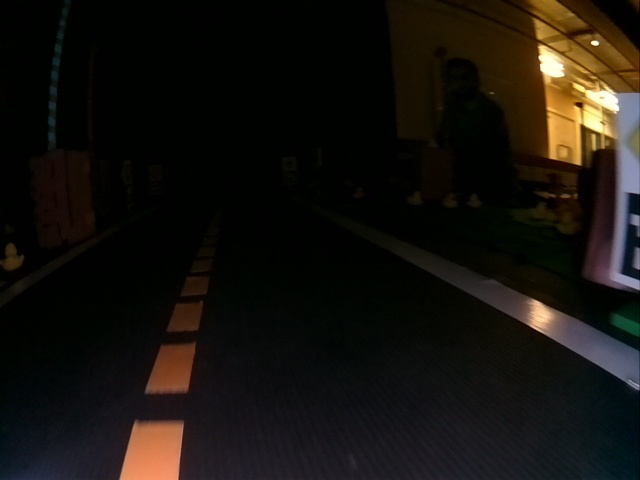Duckie: (2, 242, 25, 272), (557, 211, 580, 233), (529, 202, 546, 218), (442, 193, 457, 207), (466, 193, 480, 205)
